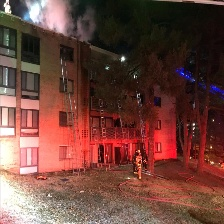smoke: (24, 1, 94, 33)
